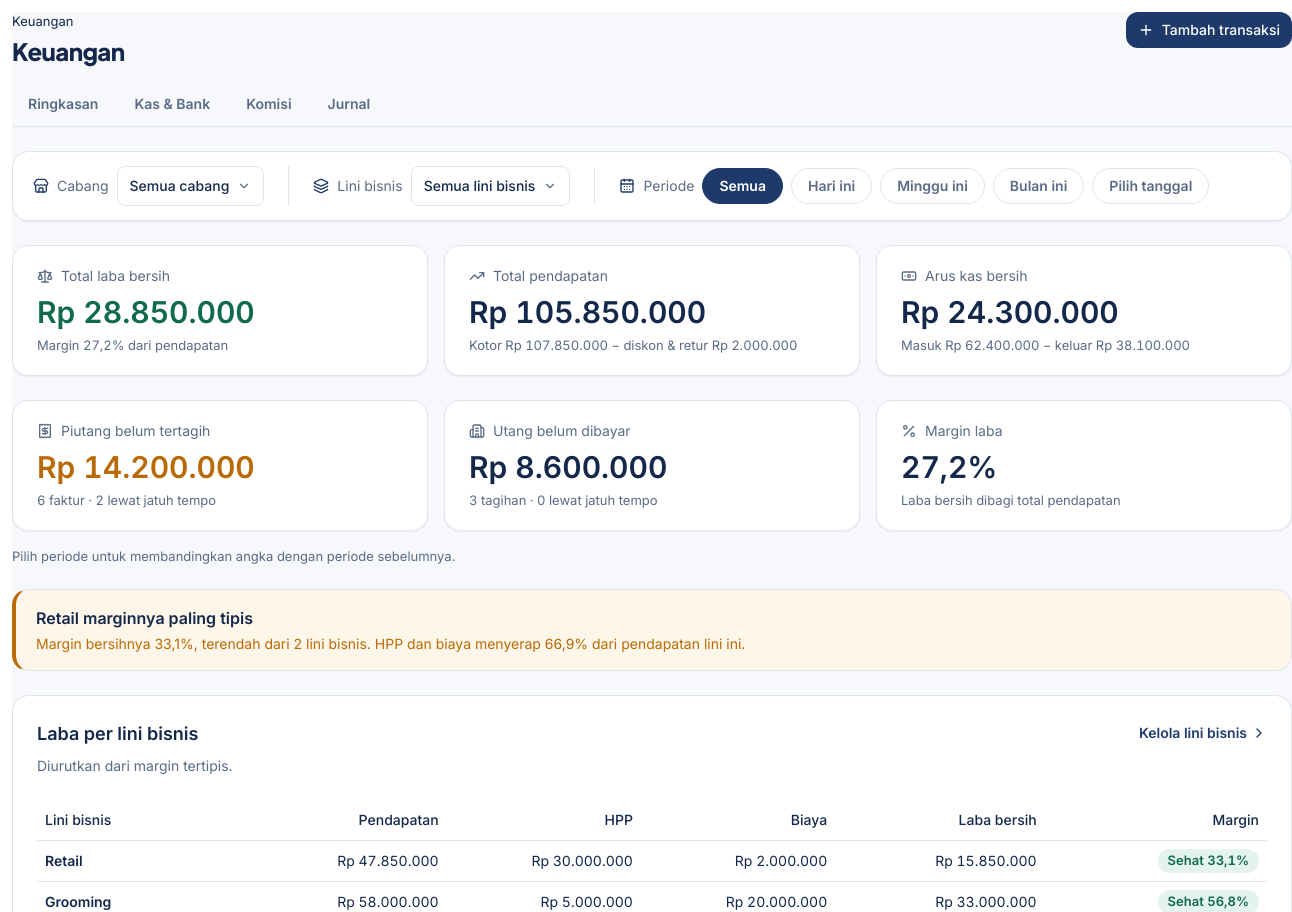
it: FinanceDashboardScreen › closes the inputs when another pill answers instead
The image size is (1292, 912).
Click the button "Pilih tanggal" at [1151, 186], box [1092,168,1209,204]
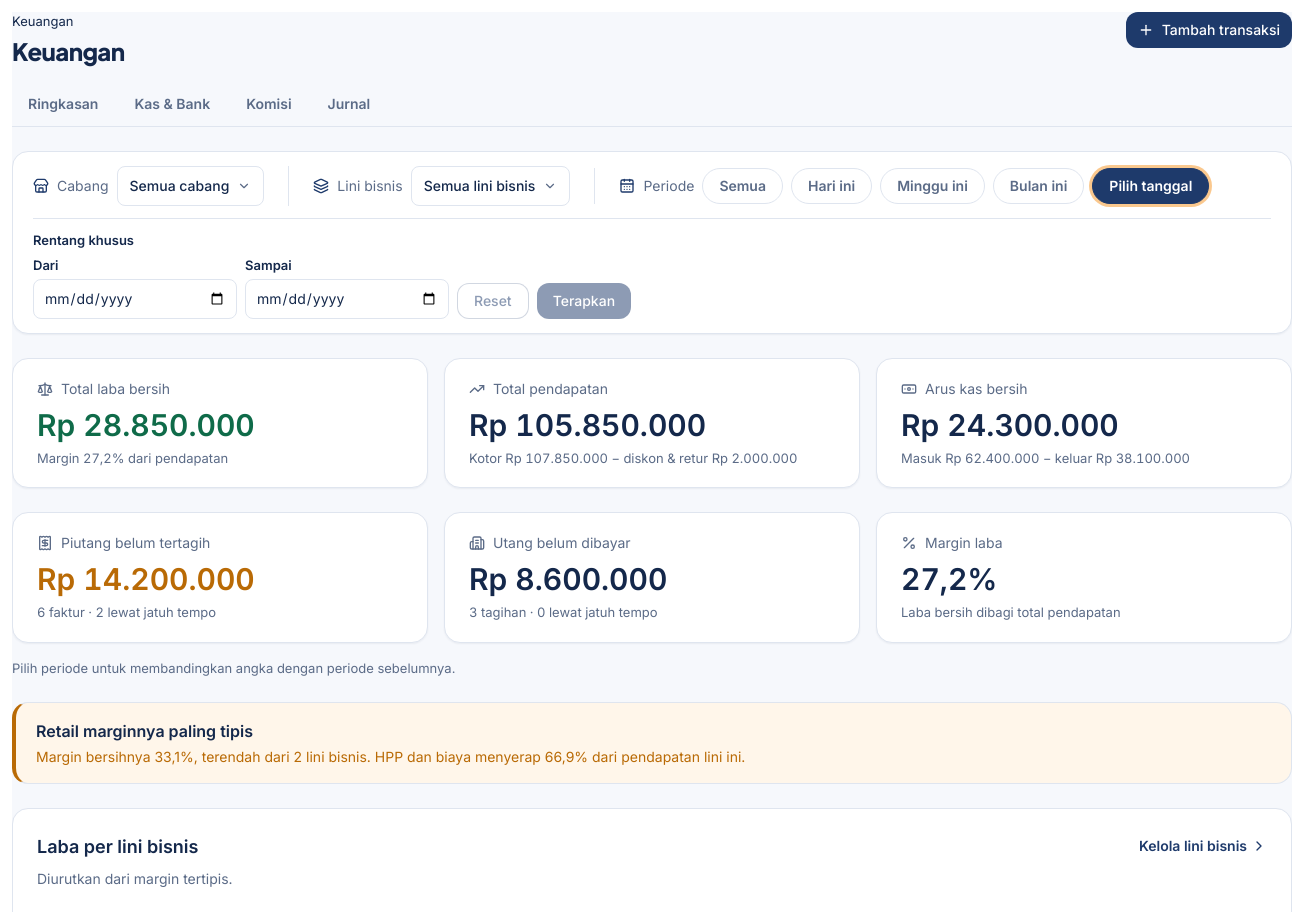
Expected: the date field named "Periode khusus dari" is shown, [33,278,237,318]
Click the button "Bulan ini" at [1039, 186], box [993,168,1084,204]
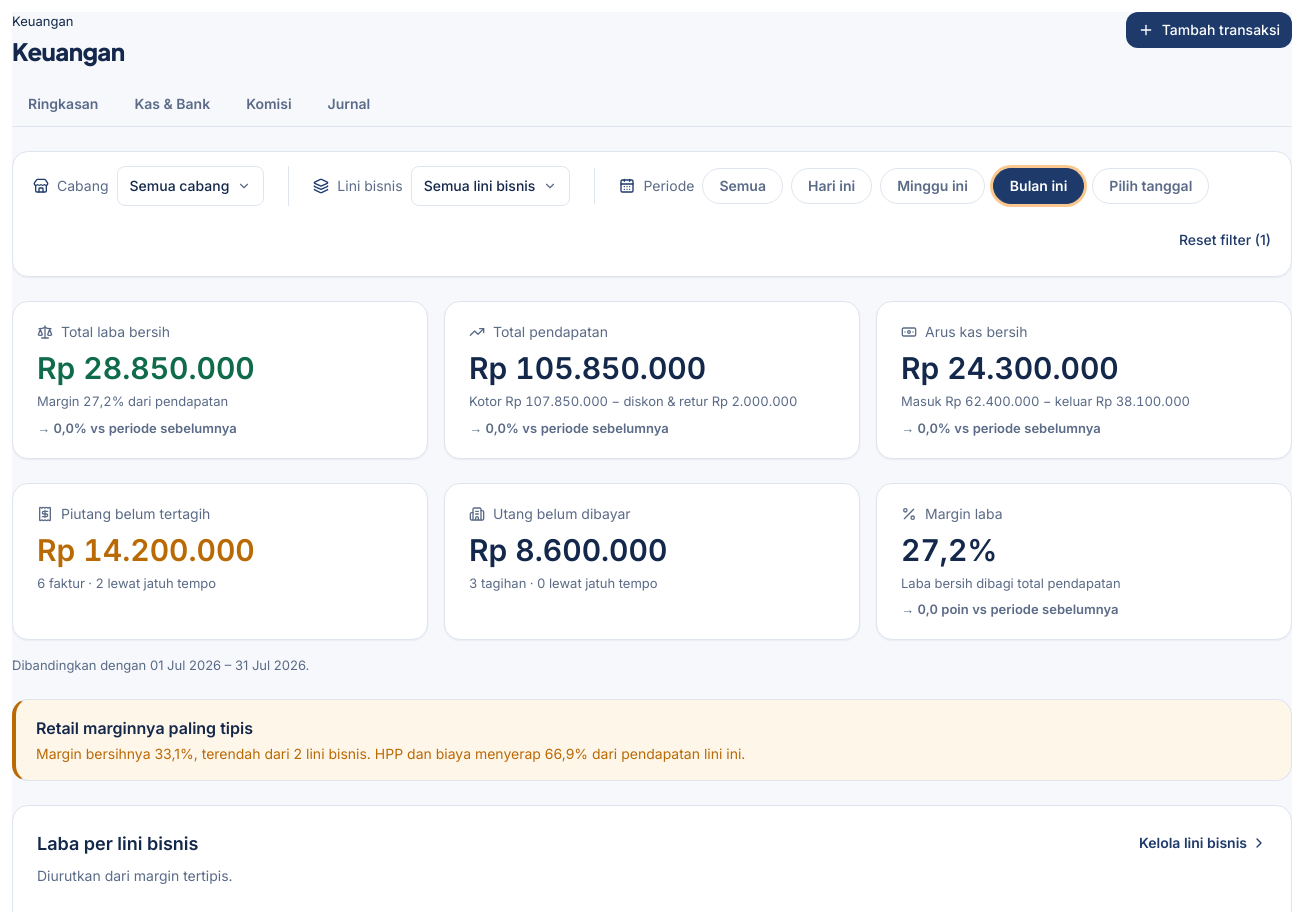
Expected: the date field labelled "Periode khusus dari" is gone
